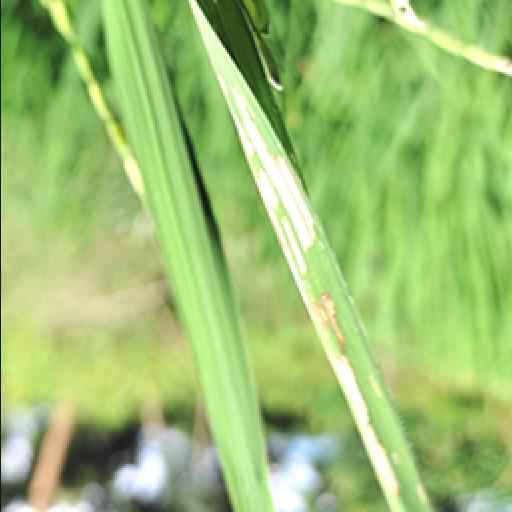Bacterial Leaf Blight: (205, 48, 383, 288), (300, 354, 472, 512)
Brown Spot: (296, 294, 346, 350)
